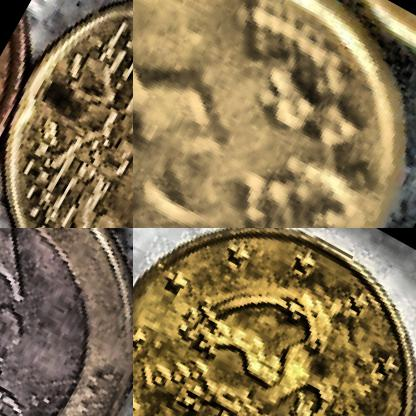coin: (133, 0, 415, 227), (133, 228, 415, 415), (0, 0, 132, 227), (0, 228, 132, 415)
